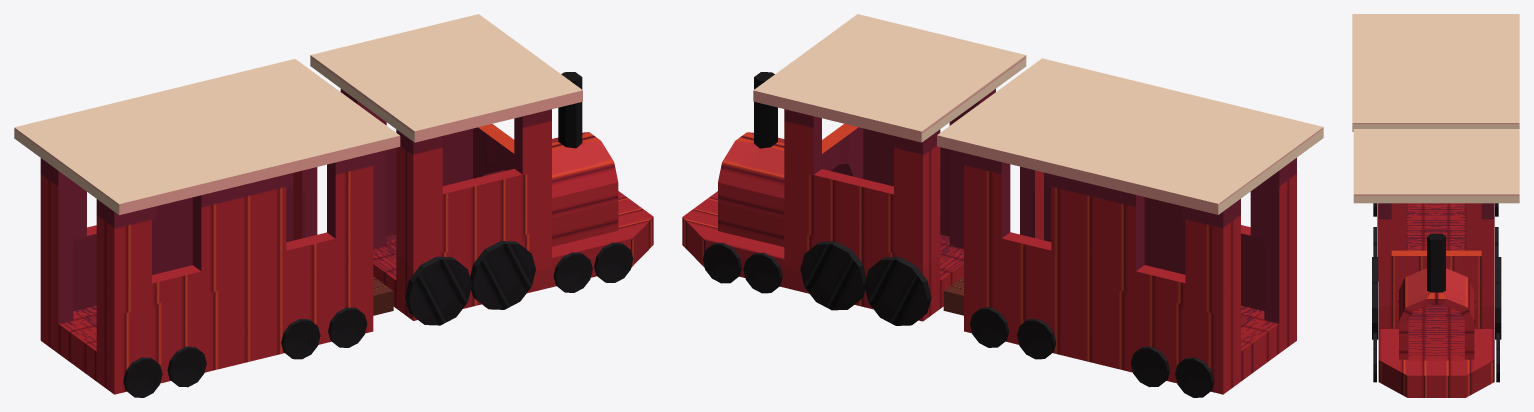
File: train.fbx
3 views of the same model, side by side, from view 1: azimuth 30°, elevation 25°; view 2: azimuth 150°, elevation 25°; view 3: azimuth 270°, elevation 25° (orthographic). The views are drawn at different scales.
Parts seen in each view (by area): view 1: train_wagon, train, middle-piece; view 2: train_wagon, train, middle-piece; view 3: train, train_wagon.
Part boxes in pixels (x1,y1,x2,y2): train_wagon: (14, 59, 400, 397); train: (310, 14, 653, 325); middle-piece: (373, 276, 393, 315); train_wagon: (937, 58, 1323, 397); train: (682, 14, 1026, 325); middle-piece: (943, 276, 963, 315); train: (1353, 129, 1519, 397); train_wagon: (1352, 14, 1519, 281).
Size of the model in its own units: 1442 by 515 by 461.
